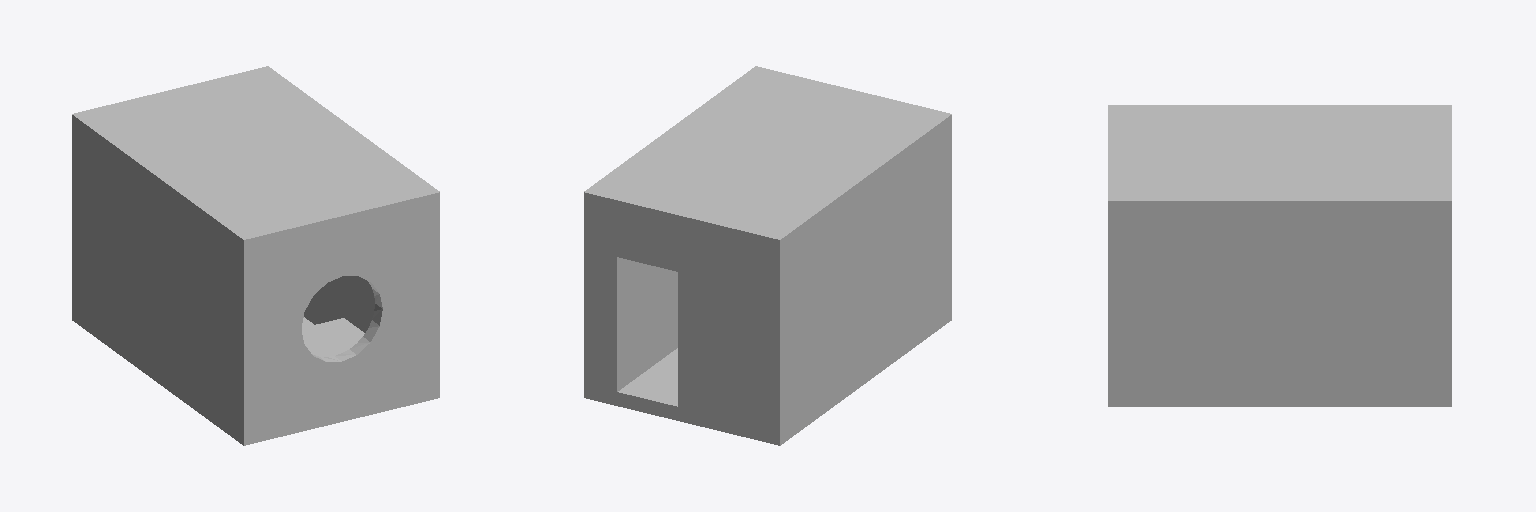
Rendered from Nakagin Capsule.obj.
The picture shows the model from 3 angles: view 1: azimuth 30°, elevation 25°; view 2: azimuth 150°, elevation 25°; view 3: azimuth 270°, elevation 25°; orthographic projection.
Size of the model in its own units: 290 by 290 by 440.